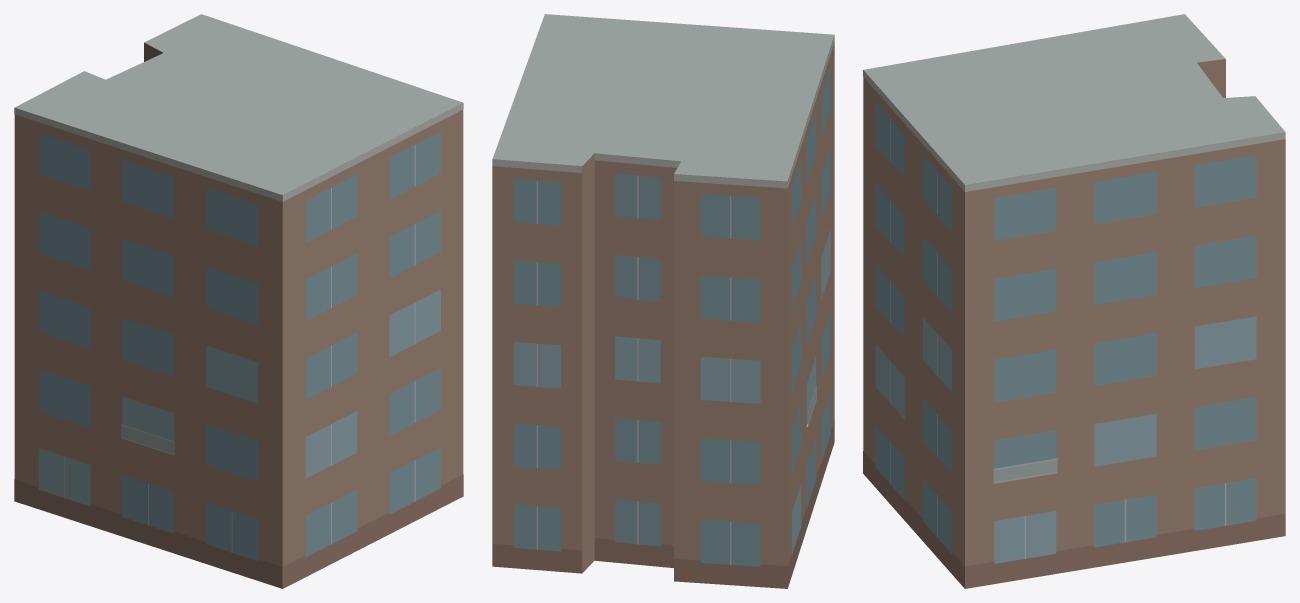
File: survey-upis-32882445.glb
The picture shows the model from 3 angles, left to right: view 1: azimuth 30°, elevation 25°; view 2: azimuth 150°, elevation 25°; view 3: azimuth 270°, elevation 25°; orthographic projection. The views are drawn at different scales.
Visible parts, largest first — view 1: survey-upis-32882445.tmp; view 2: survey-upis-32882445.tmp; view 3: survey-upis-32882445.tmp.
Boxes of the visible parts, x1,y1,x2,y2 form: survey-upis-32882445.tmp: (14, 14, 463, 588); survey-upis-32882445.tmp: (492, 14, 834, 588); survey-upis-32882445.tmp: (863, 14, 1285, 588).
Size of the model in its own units: 13 by 14.3 by 13.57.
